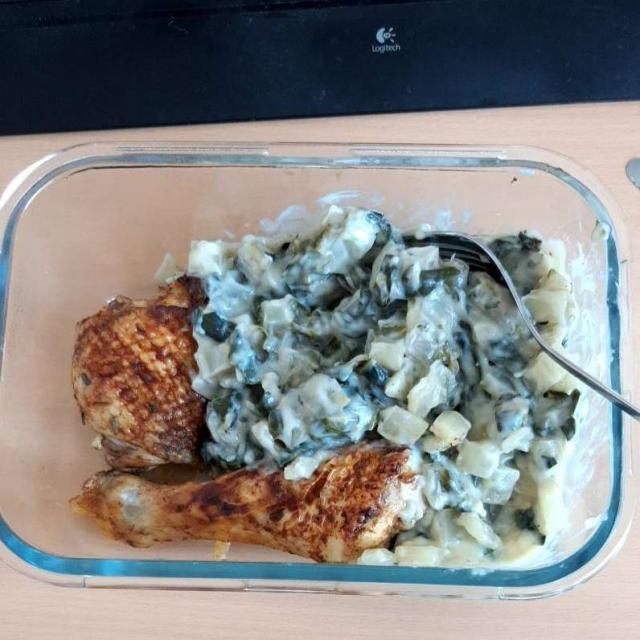cheese: (196, 213, 593, 558)
chicken: (78, 285, 404, 560)
rice: (75, 206, 567, 557)
